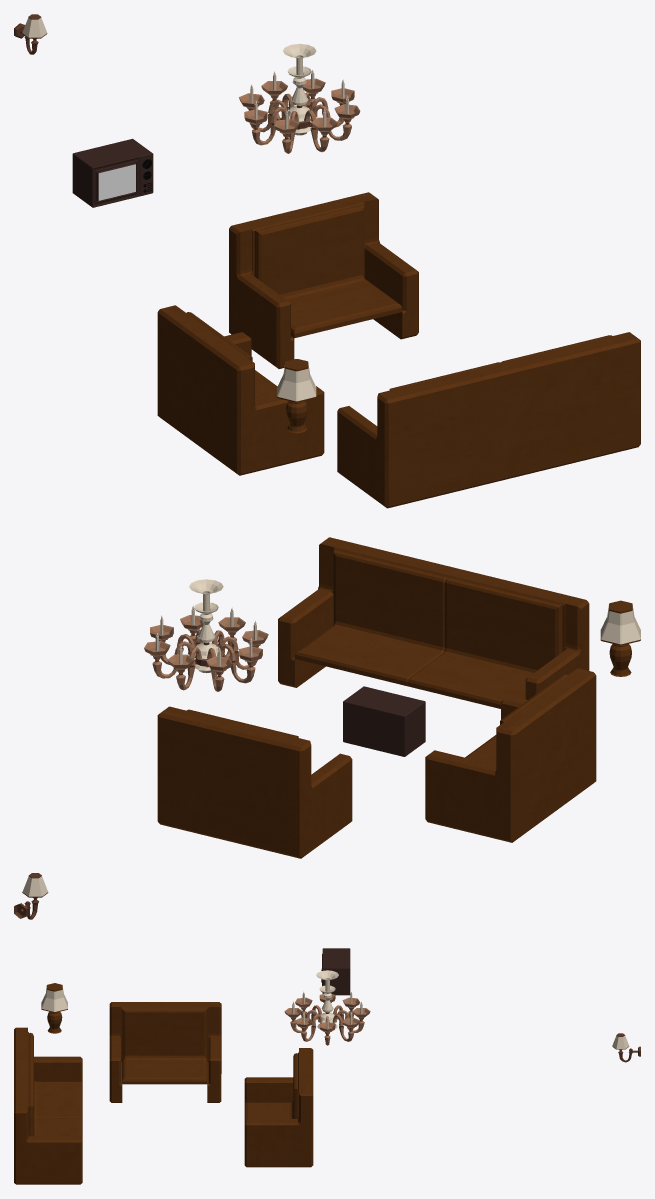
The picture shows the model from 3 angles, top to bottom: view 1: azimuth 30°, elevation 25°; view 2: azimuth 150°, elevation 25°; view 3: azimuth 270°, elevation 25°; orthographic projection. The views are drawn at different scales.
Visible parts, largest first — view 1: sofa.001, sofa, sofa.003, light.001, 立方体.026, light, lght; view 2: sofa.001, sofa, sofa.003, light.001, 立方体.026, light, lght; view 3: sofa.003, sofa.001, sofa, light.001, 立方体.026, light, lght.
Boxes of the visible parts, <box> form: sofa.001: <box>337,332,640,508</box>; sofa: <box>229,192,418,368</box>; sofa.003: <box>157,305,324,475</box>; light.001: <box>239,43,360,153</box>; 立方体.026: <box>72,138,153,207</box>; light: <box>277,359,316,433</box>; lght: <box>14,14,47,54</box>; sofa.001: <box>278,537,589,708</box>; sofa: <box>157,706,352,858</box>; sofa.003: <box>425,668,596,842</box>; light.001: <box>144,579,268,691</box>; 立方体.026: <box>343,686,425,756</box>; light: <box>600,600,640,676</box>; lght: <box>14,873,48,919</box>; sofa.003: <box>109,1002,221,1102</box>; sofa.001: <box>14,1027,82,1184</box>; sofa: <box>244,1048,313,1167</box>; light.001: <box>284,970,370,1045</box>; 立方体.026: <box>321,948,350,995</box>; light: <box>41,983,67,1033</box>; lght: <box>612,1033,640,1062</box>.
Bounding box in the file's own units: 793 × 577 × 1893.
Materials: 7 (1 with a texture image).
